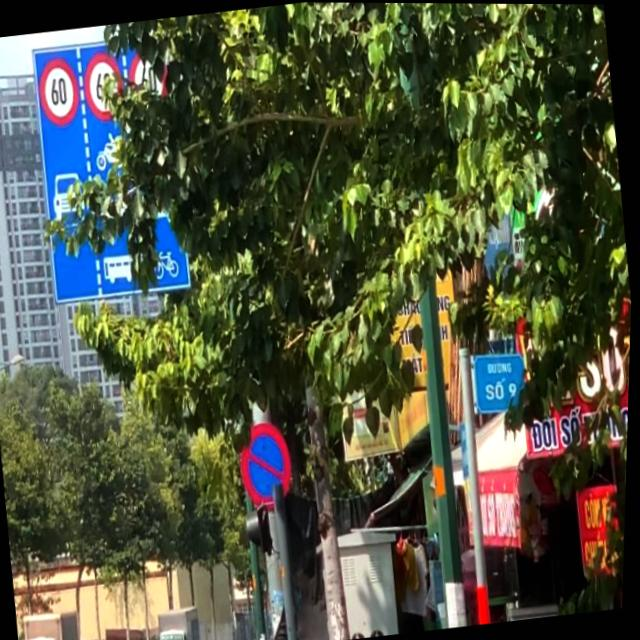Cam do xe: (237, 418, 300, 513)
Toc do toi da cho phep: (124, 42, 176, 120), (35, 55, 85, 131), (80, 48, 128, 125)
